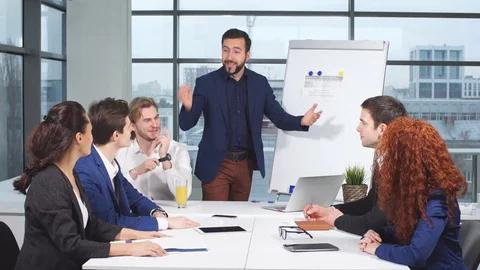jacket: (177, 65, 308, 184), (14, 162, 122, 270), (74, 144, 168, 237), (376, 186, 467, 269)
long sleeve shirt: (115, 138, 193, 203)
short sleeve shirt: (221, 64, 252, 153)
trousers: (200, 152, 253, 202)
